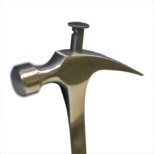hammer: (11, 21, 145, 154)
